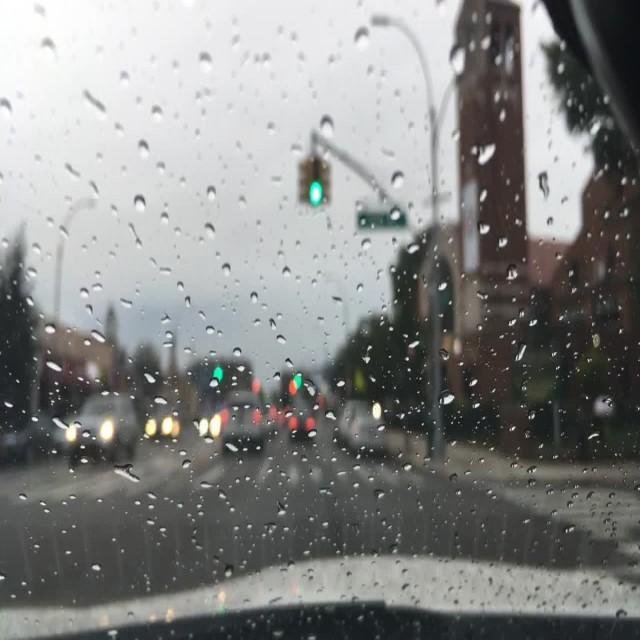normal: (54, 383, 147, 477), (196, 377, 282, 465)
